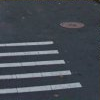crosswalk: (0, 40, 82, 100)
